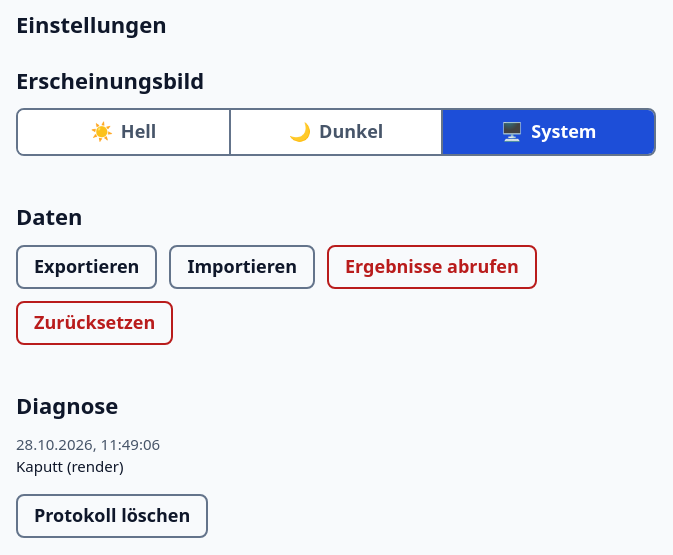
Scenario: SettingsView – error log (Diagnose) › clears the log via the button and shows the empty state again
This screenshot has width=673, height=555.
Click the button "Protokoll löschen" at coordinates (112, 516), box x1=16 y1=494 x2=208 y2=538
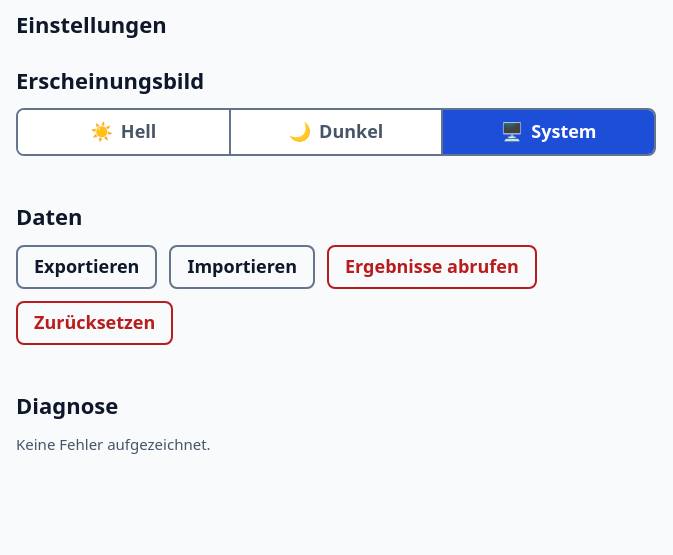
expect the text "Keine Fehler aufgezeichnet." is shown: met, box x1=16 y1=434 x2=211 y2=454
